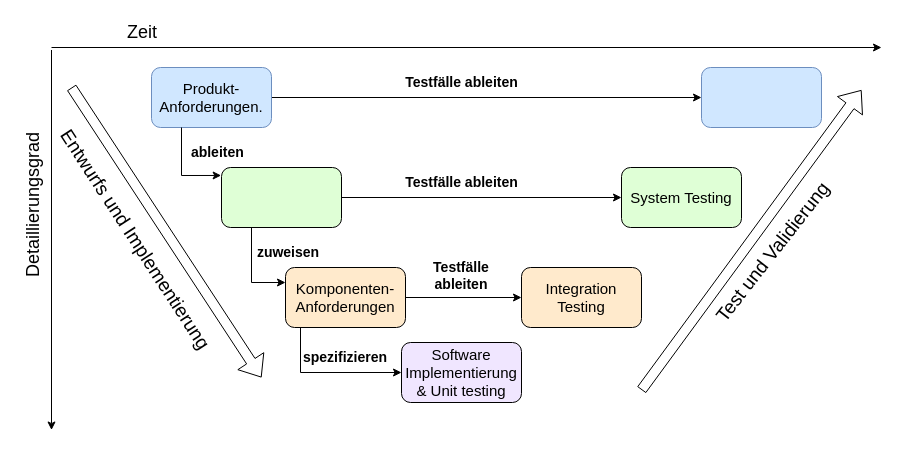
This 907x455 diagram has some shape labels left out. Here are the shapes that lost their labels. From the top down, the centre of each, then its label:
[761,97]: Abnahmetest Validierung
[281,197]: Systemen-Anforderungen
